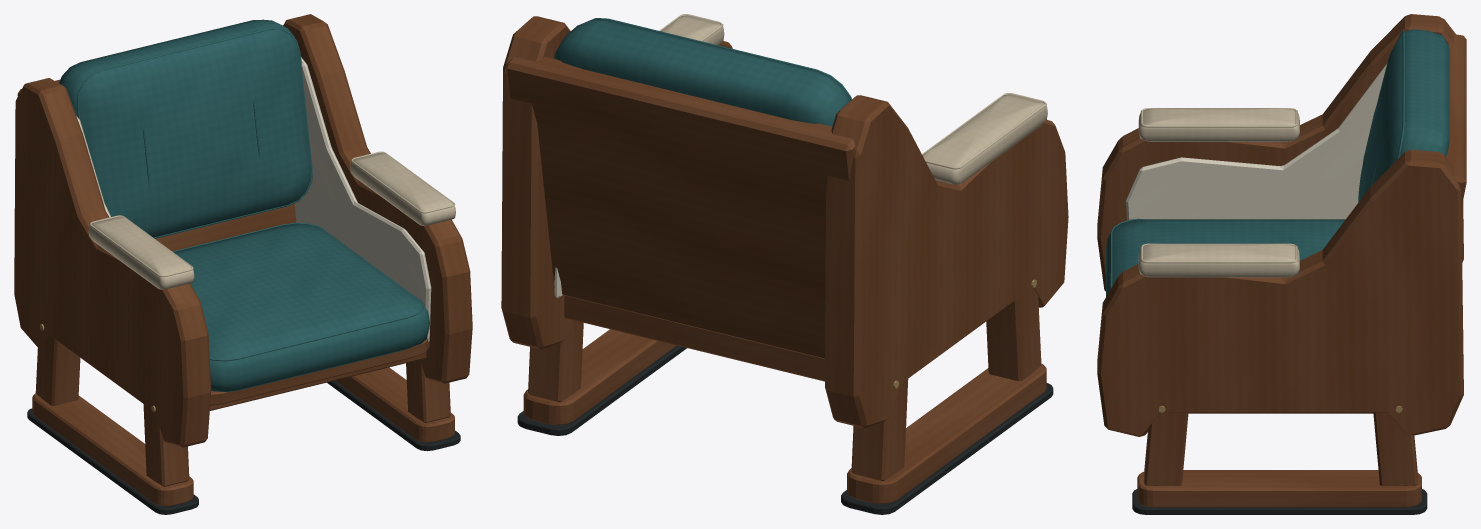
The model's file is AST-FUR-002.glb.
3 renders of one model, left to right at view 1: azimuth 30°, elevation 25°; view 2: azimuth 150°, elevation 25°; view 3: azimuth 270°, elevation 25°, orthographic. The views are drawn at different scales.
Visible parts, largest first — view 1: AST-FUR-002_static_visual; view 2: AST-FUR-002_static_visual; view 3: AST-FUR-002_static_visual.
Boxes of the visible parts, left/top/right/bottom form: AST-FUR-002_static_visual: left=14, top=14, right=472, bottom=514; AST-FUR-002_static_visual: left=501, top=14, right=1068, bottom=514; AST-FUR-002_static_visual: left=1097, top=14, right=1466, bottom=514.
Bounding box in the file's own units: 0.94 × 0.9972 × 0.9293.
Materials: 6 (6 with a texture image).
